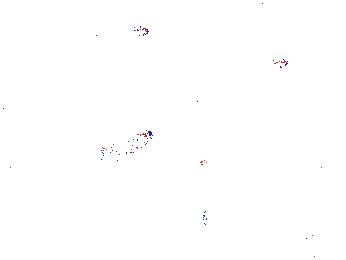red belly glassfish: (97, 128, 155, 160), (120, 24, 151, 39), (262, 56, 289, 70), (251, 1, 271, 17)
siberian prawn: (32, 224, 109, 256)
